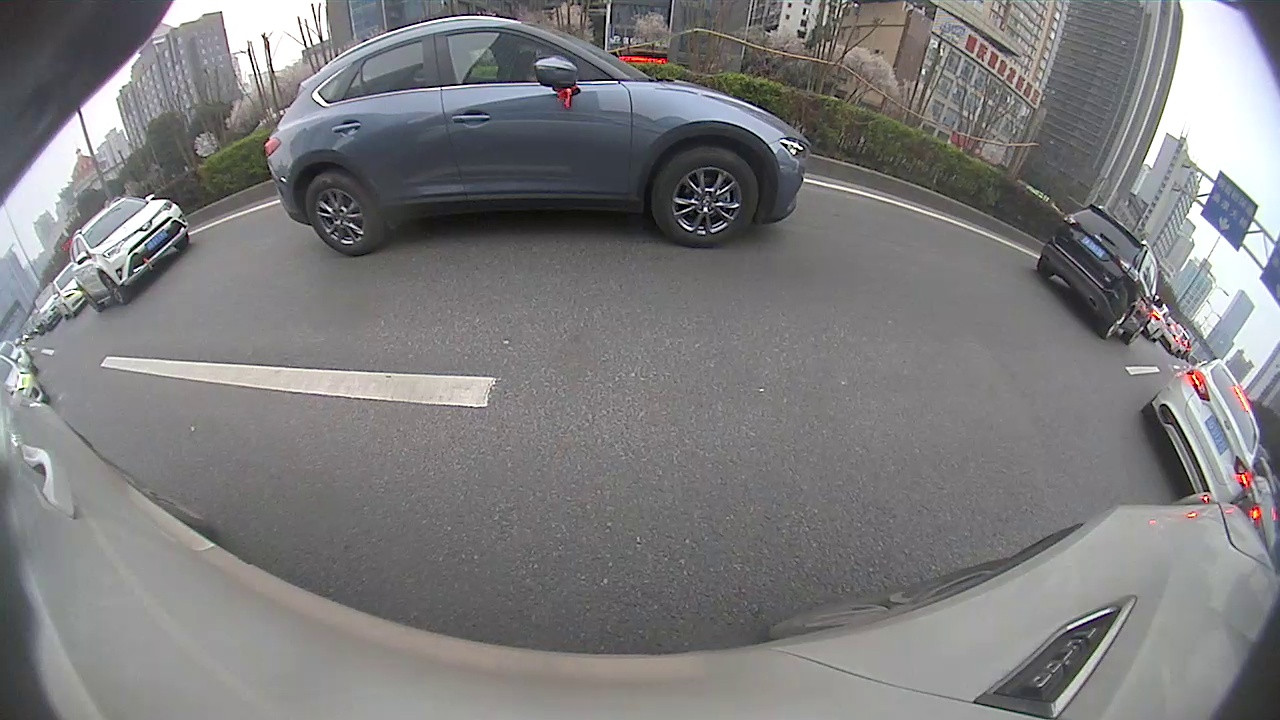car: (1024, 233, 1220, 362), (896, 170, 1025, 245), (1220, 319, 1279, 386), (1013, 219, 1083, 253), (813, 166, 863, 203), (879, 182, 914, 207), (780, 167, 814, 187)
front: (1029, 248, 1053, 280), (894, 201, 911, 221)
rear: (1130, 301, 1164, 349)
